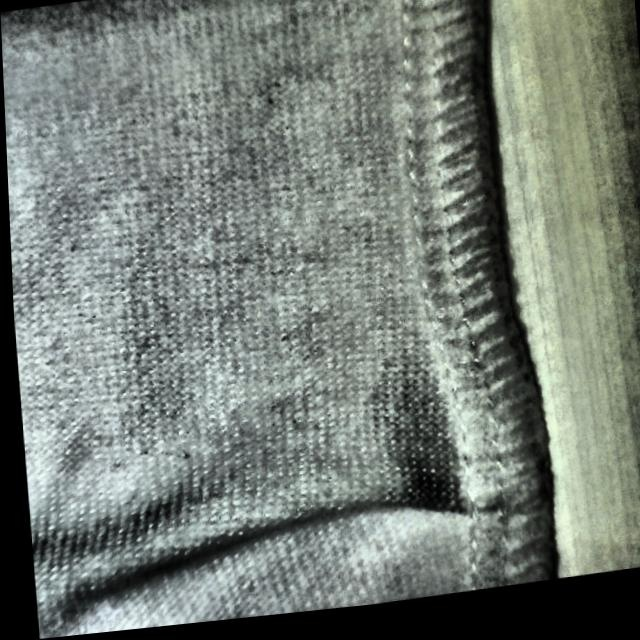seam: (223, 403, 559, 600)
